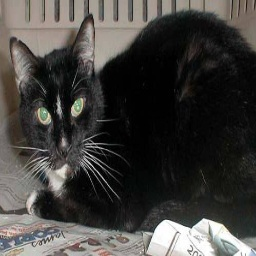cat: (13, 13, 256, 236)
